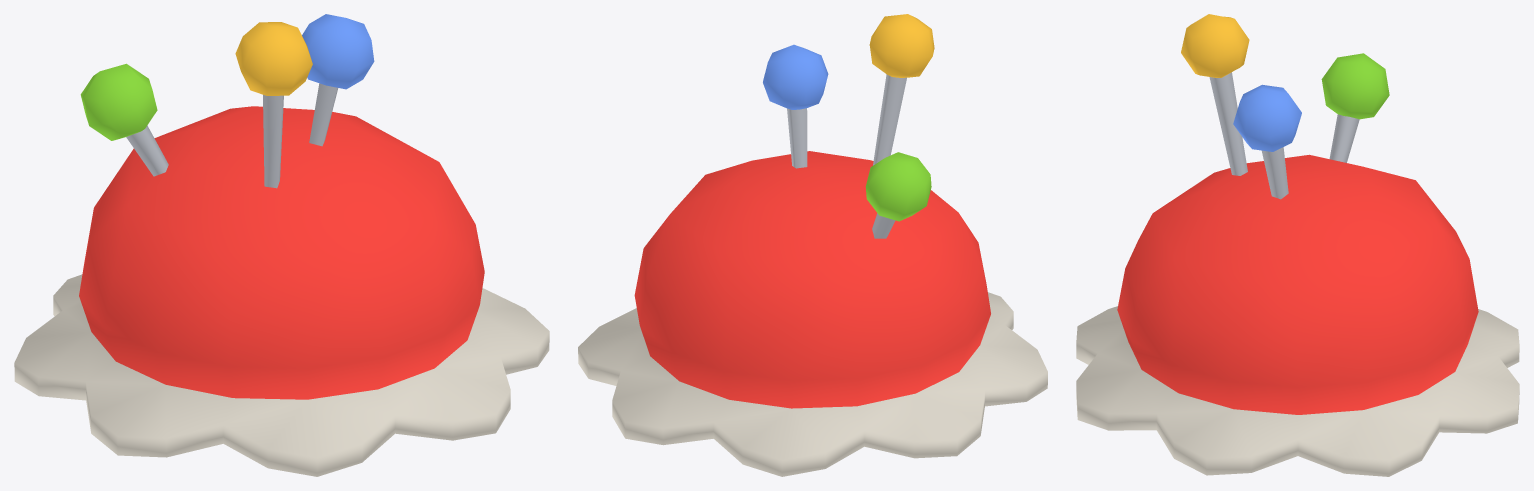
The model's file is accessory-candyhat.glb.
3 renders of one model, left to right at view 1: azimuth 30°, elevation 25°; view 2: azimuth 150°, elevation 25°; view 3: azimuth 270°, elevation 25°, orthographic. The views are drawn at different scales.
Parts seen in each view (by area): view 1: accessory__JA_m_Hat25__0; view 2: accessory__JA_m_Hat25__0; view 3: accessory__JA_m_Hat25__0.
Part boxes in pixels (box(x1,y1,x2,y2)): accessory__JA_m_Hat25__0: box(14, 14, 549, 476); accessory__JA_m_Hat25__0: box(578, 14, 1047, 476); accessory__JA_m_Hat25__0: box(1076, 14, 1519, 476).
Size of the model in its own units: 0.5145 by 0.4431 by 0.5145.
